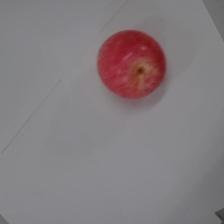red: (96, 28, 167, 101)
